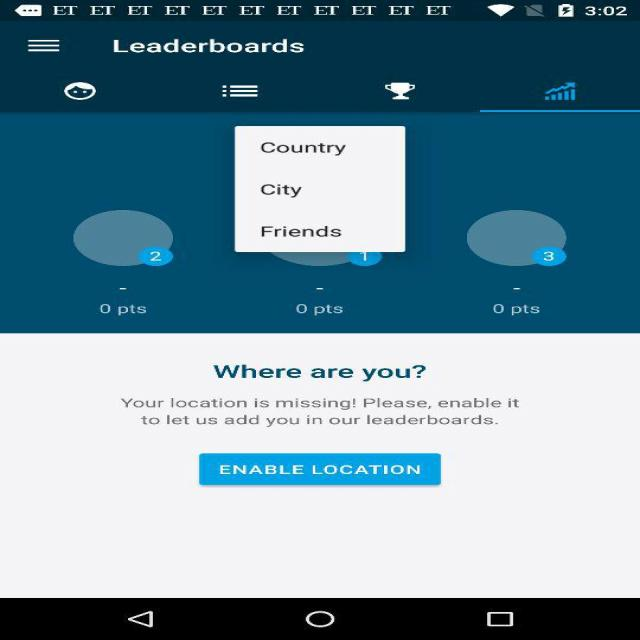icon: (155, 114, 632, 239)
